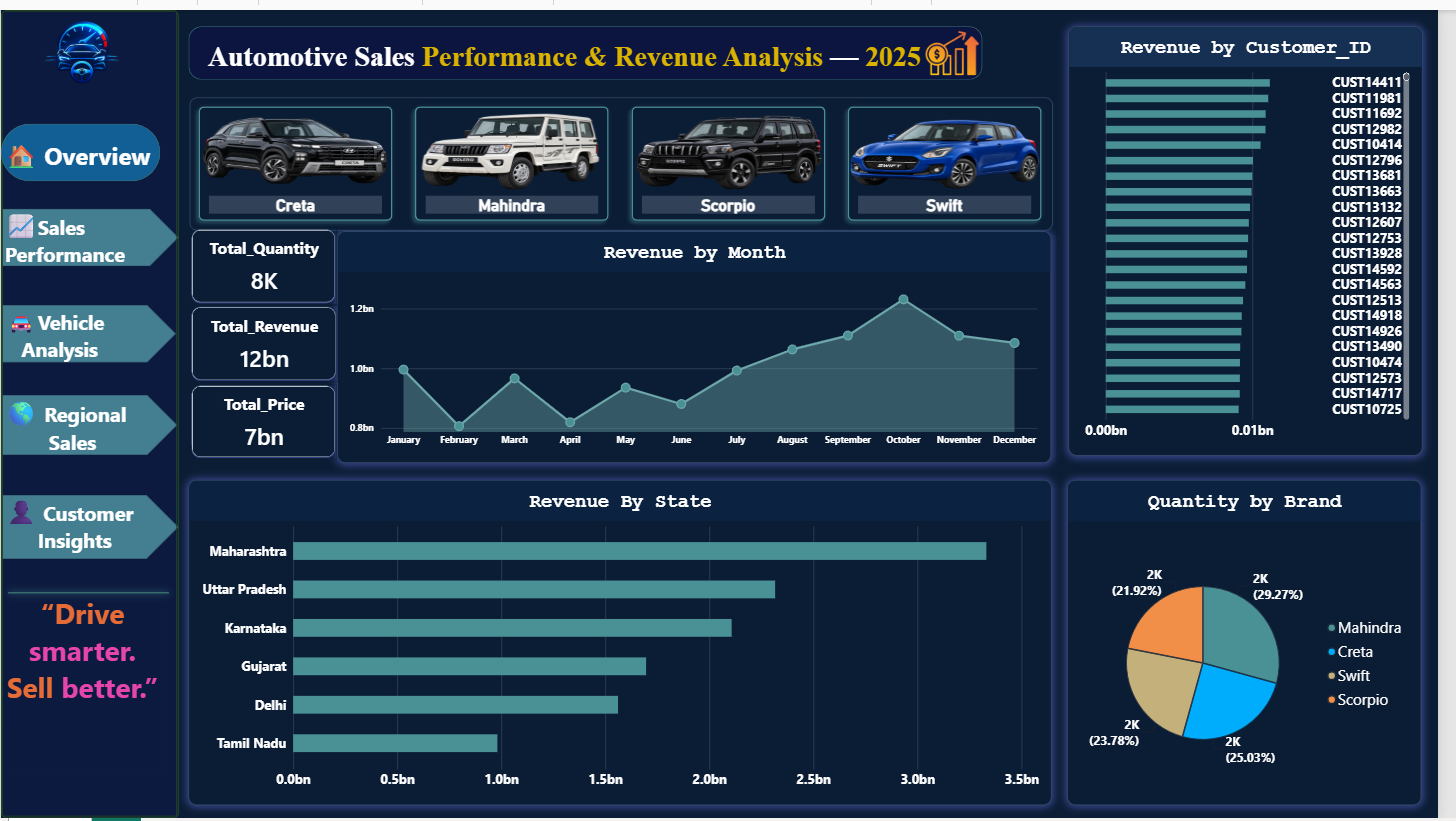

This screenshot's page, from the dashboard's own definition file:
{"tool":"powerbi","page":{"name":"Final","canvas":[1920,1080],"ordinal":0},"visuals":[{"type":"shape","box":[1.7,647.1,235.5,85.5],"z":0},{"type":"shape","box":[0,514.5,235.5,80.2],"z":1000},{"type":"shape","box":[1.7,394.2,232,76.7],"z":2000},{"type":"shape","box":[1.7,265.1,235.5,76.7],"z":3000},{"type":"shape","box":[0,0,237.2,1079.7],"z":4000},{"type":"textbox","box":[5.2,355.8,212.8,183.1],"z":5000},{"type":"shape","box":[0,151.7,212.8,76.7],"z":6000},{"type":"clusteredBarChart","title":"Revenue By State","fields":{"Category":["Sheet1.State"],"Y":["Sum(Sheet1.Revenue)"]},"box":[251.2,627.9,1152.9,434.3],"z":7000},{"type":"pieChart","title":"Quantity by Brand","fields":{"Category":["Sheet1.Brand"],"Y":["Sum(Sheet1.Quantity)"]},"box":[1425,627.9,472.7,434.3],"z":8000},{"type":"areaChart","title":" Revenue by Month","fields":{"Category":["Sheet1.Date.Variation.Date Hierarchy.Month"],"Y":["Sum(Sheet1.Revenue)"]},"box":[450,294.8,953.7,309.5],"z":9000},{"type":"clusteredBarChart","title":" Revenue by Customer_ID","fields":{"Category":["Sheet1.Customer_ID"],"Y":["Sum(Sheet1.Revenue)"]},"box":[1426,21.7,472.7,573.8],"z":10000},{"type":"cardVisual","fields":{"Data":["Sheet1.Total_Revenue"]},"box":[251.5,394.5,198.7,103.5],"z":11000},{"type":"cardVisual","fields":{"Data":["Sheet1.Total_Price"]},"box":[251.5,499.5,197,101.9],"z":12000},{"type":"shape","box":[251.2,20.9,1060.5,71.5],"z":13000},{"type":"textbox","box":[265.1,34.9,1072.7,78.5],"z":14000},{"type":"image","box":[1182.6,20.9,177,71.8],"z":15000},{"type":"advancedSlicerVisual","fields":{"Values":["Sheet1.Brand"]},"box":[252.9,116.9,1152.8,177.3],"z":16000},{"type":"cardVisual","fields":{"Data":["Sheet1.Total_Quantity"]},"box":[251.5,291.4,197,103.5],"z":17000},{"type":"image","box":[3.5,0,209.3,113.4],"z":18000},{"type":"textbox","box":[3.5,779.7,211,239],"z":19000},{"type":"textbox","box":[5.2,172.7,209.3,80.2],"z":20000},{"type":"textbox","box":[5.2,265.1,207.6,78.5],"z":21000},{"type":"textbox","box":[5.2,497.1,207.6,102.9],"z":22000},{"type":"textbox","box":[5.2,647.1,207.6,101.2],"z":23000},{"type":"shape","box":[0,477.9,233.7,601.7],"z":24002}]}

Visuals, with their boxes in screenshot pixels (x1, y1, x2, y2), scaled from the page's 1920x1080 canvas onto the 1456x821 screenshot:
shape: 1, 492, 180, 557
shape: 0, 391, 179, 452
shape: 1, 300, 177, 358
shape: 1, 202, 180, 260
shape: 0, 0, 180, 820
textbox: 4, 270, 165, 410
shape: 0, 115, 161, 174
"Revenue By State" clusteredBarChart: 190, 477, 1065, 807
"Quantity by Brand" pieChart: 1081, 477, 1439, 807
" Revenue by Month" areaChart: 341, 224, 1064, 459
" Revenue by Customer_ID" clusteredBarChart: 1081, 16, 1440, 453
cardVisual - Sheet1.Total_Revenue: 191, 300, 341, 379
cardVisual - Sheet1.Total_Price: 191, 380, 340, 457
shape: 190, 16, 995, 70
textbox: 201, 27, 1014, 86
image: 897, 16, 1031, 70
advancedSlicerVisual - Sheet1.Brand: 192, 89, 1066, 224
cardVisual - Sheet1.Total_Quantity: 191, 222, 340, 300
image: 3, 0, 161, 86
textbox: 3, 593, 163, 774
textbox: 4, 131, 163, 192
textbox: 4, 202, 161, 261
textbox: 4, 378, 161, 456
textbox: 4, 492, 161, 569
shape: 0, 363, 177, 820
